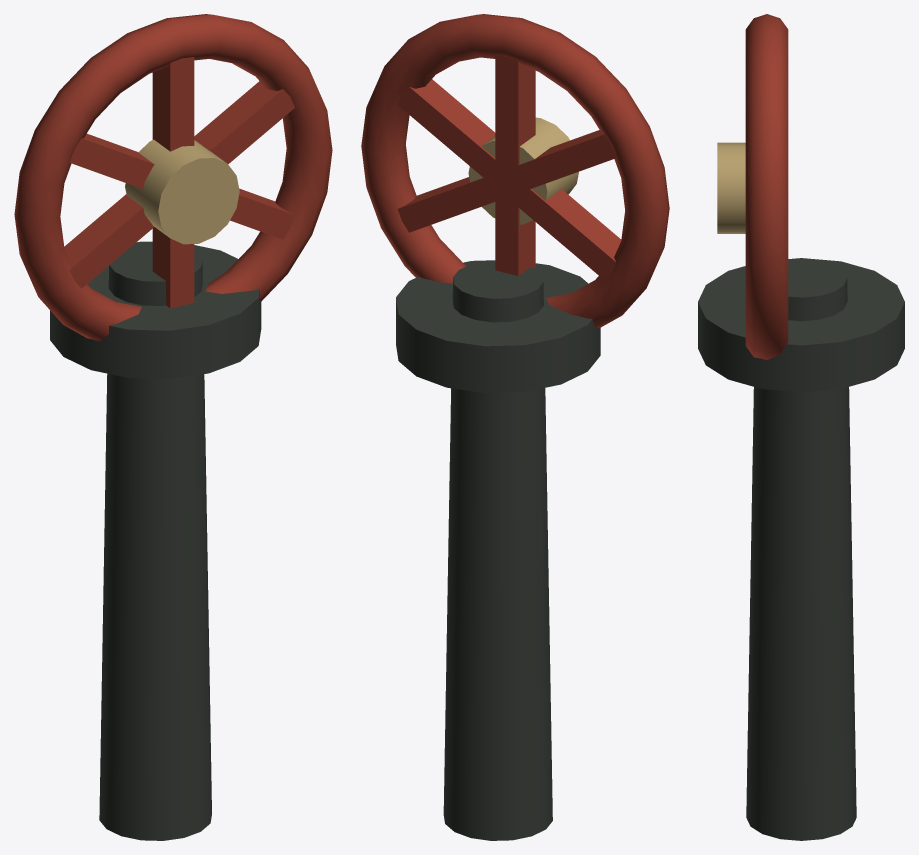
Rendered from sluice-valve.glb.
The picture shows the model from 3 angles, left to right: view 1: azimuth 30°, elevation 25°; view 2: azimuth 150°, elevation 25°; view 3: azimuth 270°, elevation 25°; orthographic projection. The views are drawn at different scales.
Bounding box in the file's own units: 0.406 × 1.01 × 0.24.
